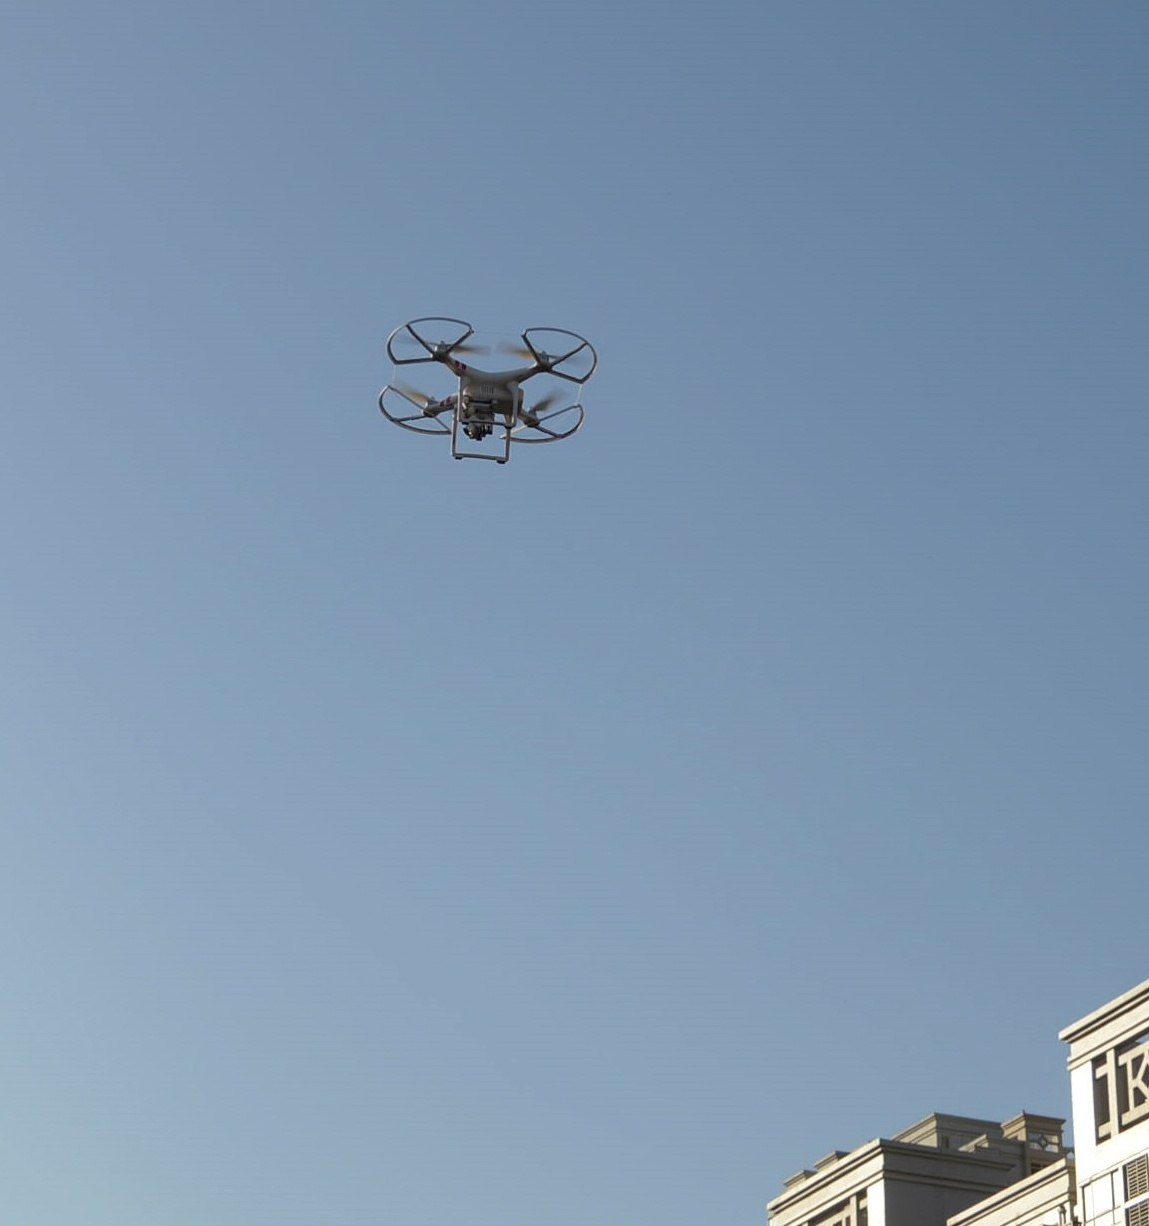DJI: (373, 318, 600, 473)
